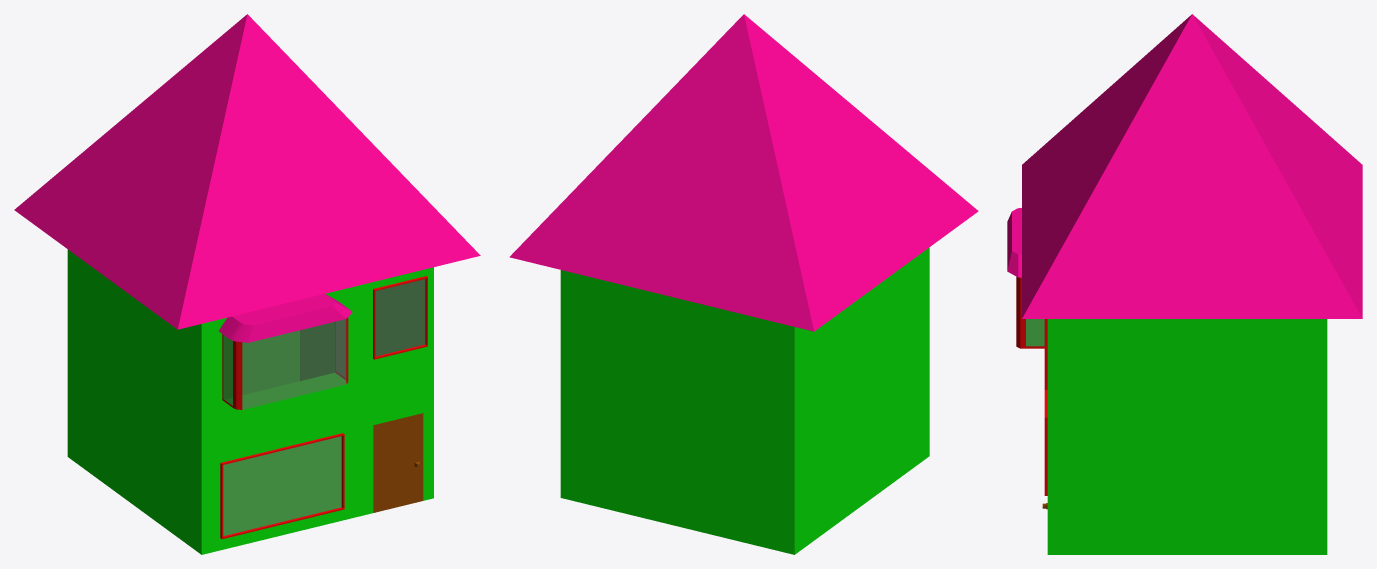
File: House2.FBX
3 renders of one model, left to right at view 1: azimuth 30°, elevation 25°; view 2: azimuth 150°, elevation 25°; view 3: azimuth 270°, elevation 25°, orthographic. The views are drawn at different scales.
Parts seen in each view (by area): view 1: Base, Roof; view 2: Base, Roof; view 3: Roof, Base.
Boxes of the visible parts, left/top/right/bottom form: Base: left=67, top=249, right=433, bottom=554; Roof: left=14, top=14, right=480, bottom=329; Base: left=560, top=247, right=929, bottom=554; Roof: left=509, top=14, right=978, bottom=331; Roof: left=1022, top=14, right=1362, bottom=318; Base: left=1007, top=208, right=1327, bottom=554.
Bounding box in the file's own units: 1192 × 1736 × 1161.
